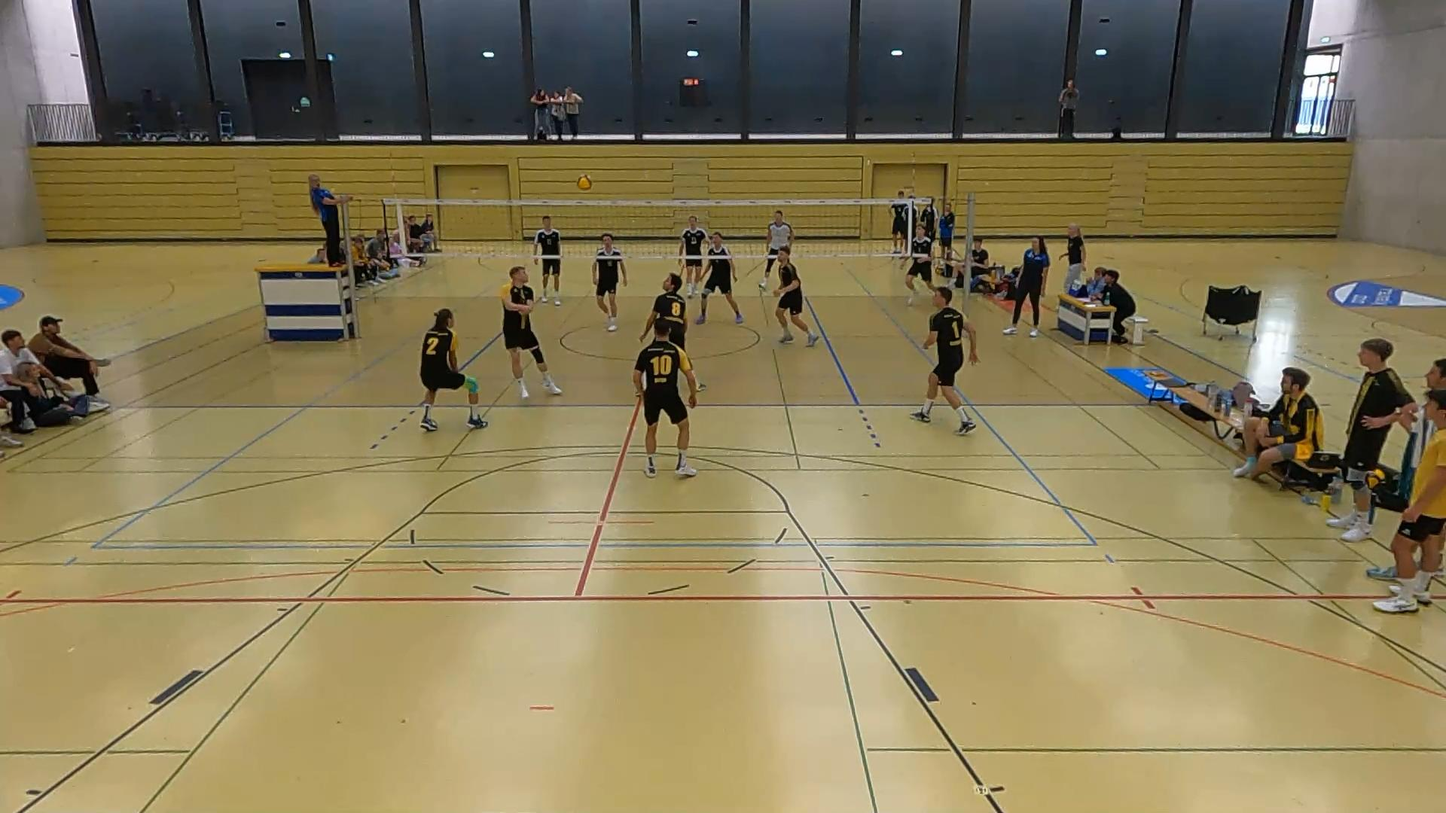difesa: (410, 302, 490, 434)
